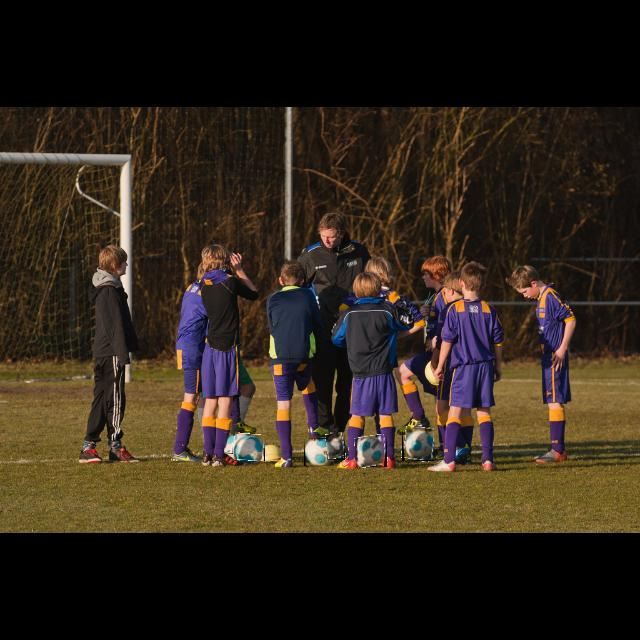Football: (402, 427, 434, 461), (355, 435, 387, 467), (233, 433, 265, 461), (304, 438, 334, 466), (327, 432, 345, 460), (224, 432, 240, 454)
